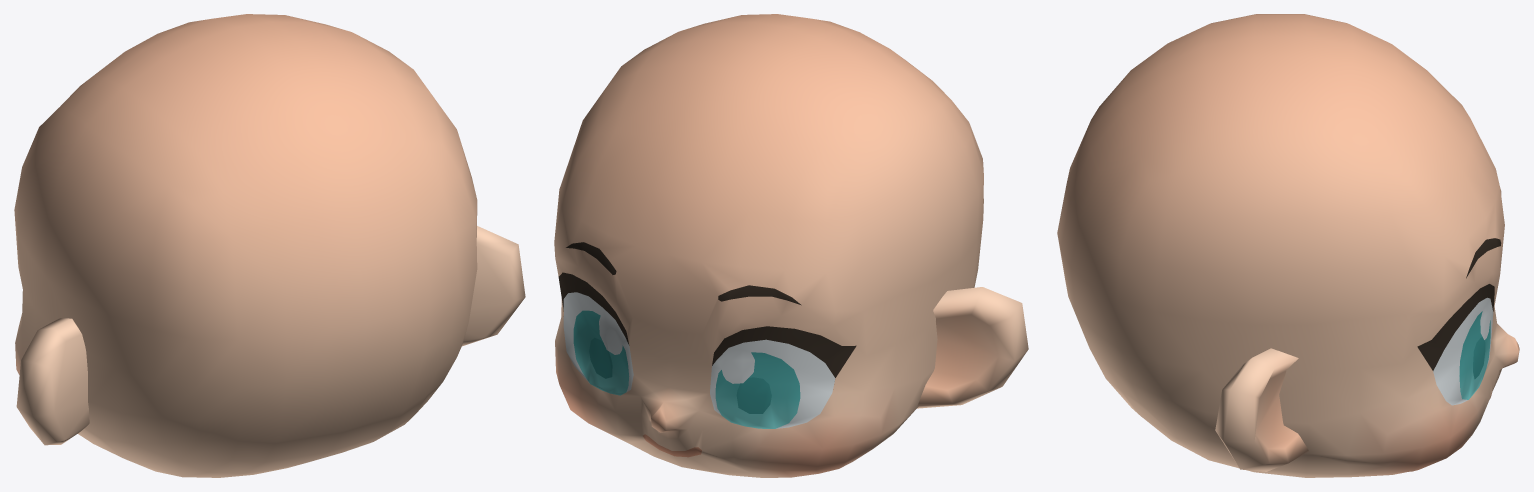
File: FaceFemale_1.fbx
3 views of the same model, side by side, from view 1: azimuth 30°, elevation 25°; view 2: azimuth 150°, elevation 25°; view 3: azimuth 270°, elevation 25° (orthographic). The views are drawn at different scales.
Visible parts, largest first — view 1: FaceFemale_1; view 2: FaceFemale_1; view 3: FaceFemale_1.
Part boxes in pixels (x1=…): FaceFemale_1: x1=14, y1=14, x2=525, y2=477; FaceFemale_1: x1=554, y1=14, x2=1028, y2=477; FaceFemale_1: x1=1057, y1=14, x2=1519, y2=477.
Size of the model in its own units: 81.66 by 66.4 by 68.58.
